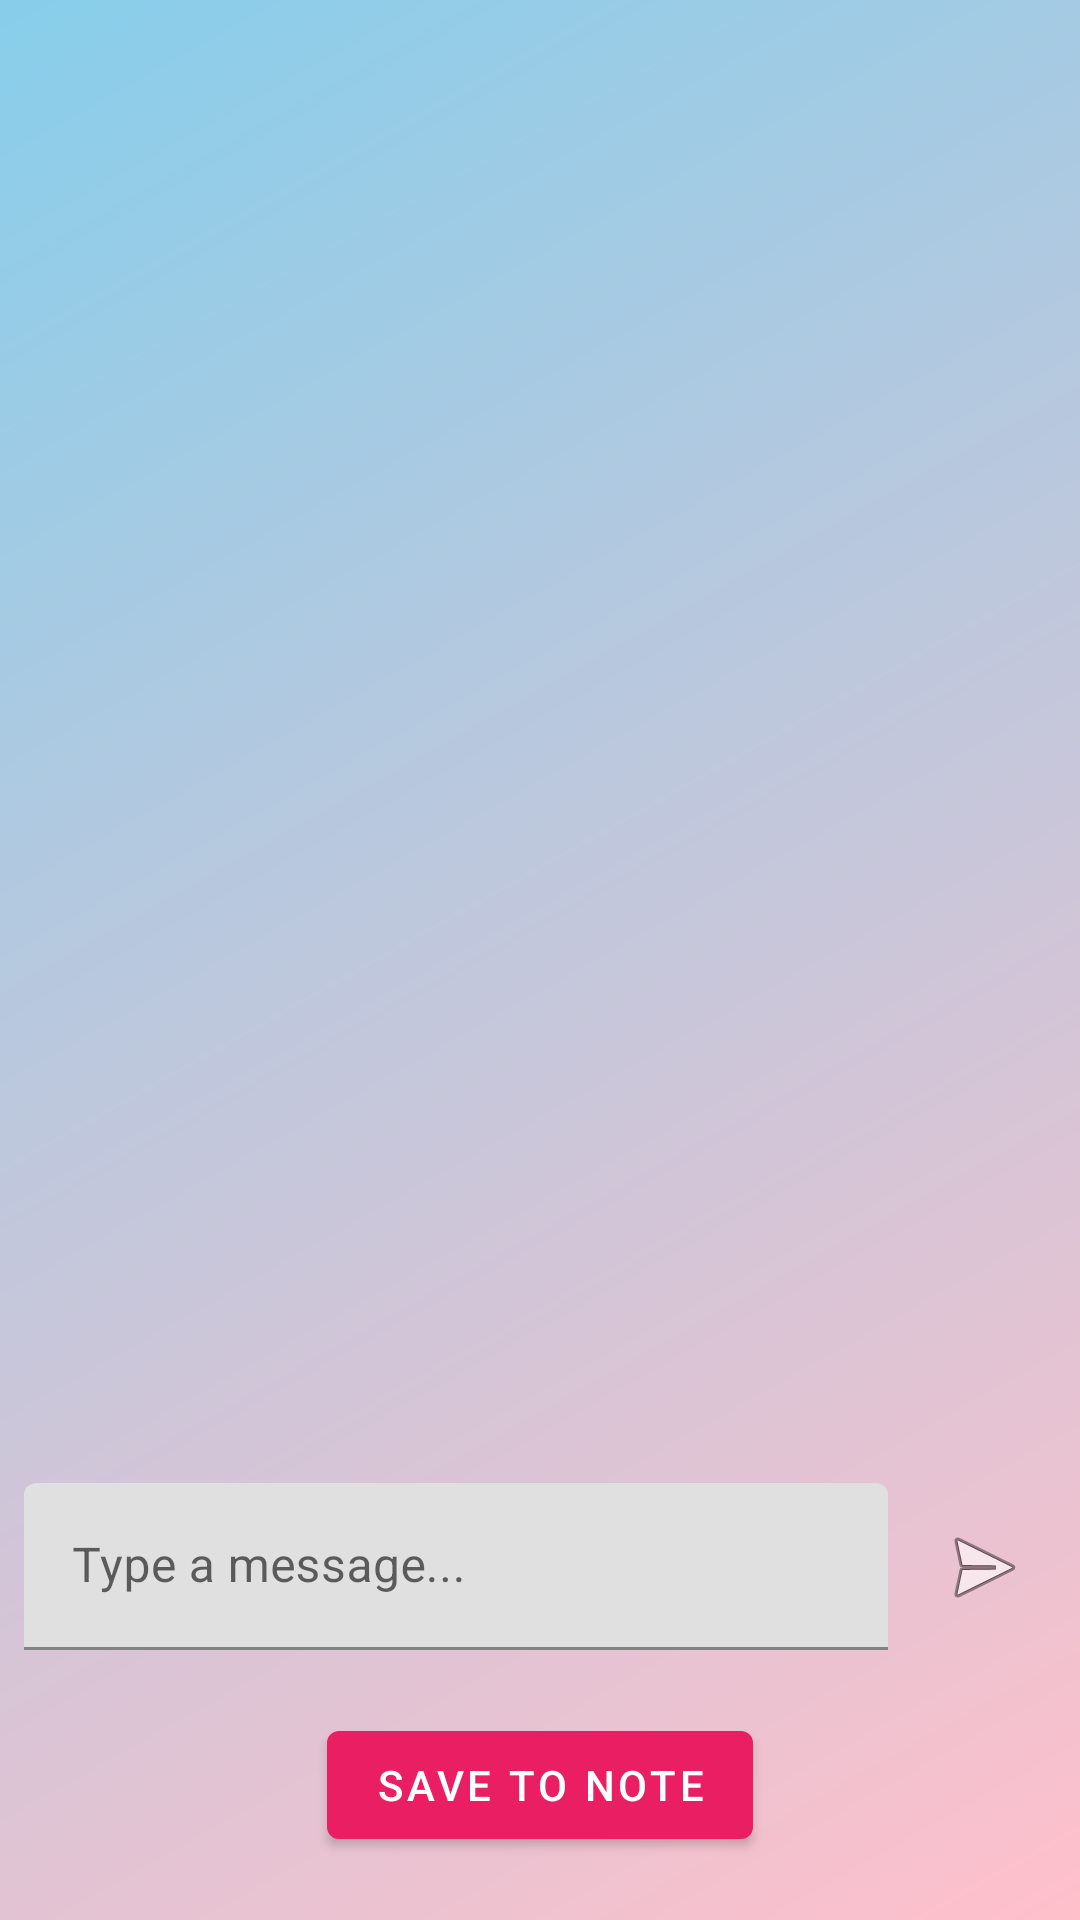

Where to tap for icons on this 1080 × 1920 app screen, as (x=x, y=y):
send: (x=985, y=1567)
